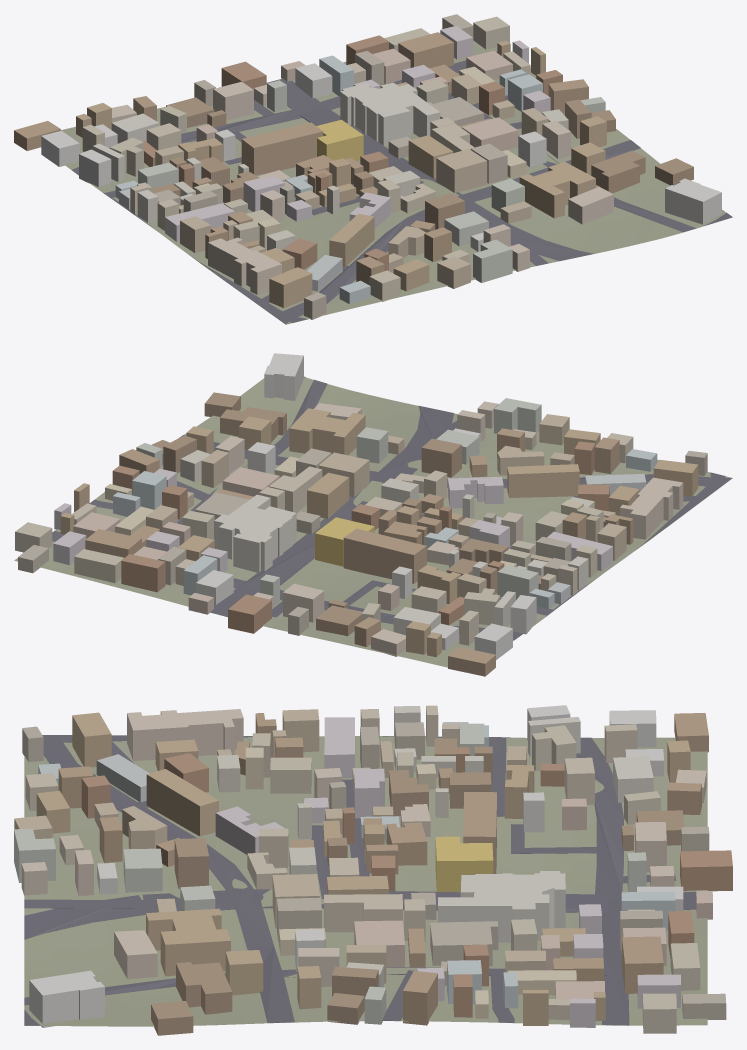
Rendered from chunk_8_5.glb.
The picture shows the model from 3 angles, top to bottom: view 1: azimuth 30°, elevation 25°; view 2: azimuth 150°, elevation 25°; view 3: azimuth 270°, elevation 25°; orthographic projection. The views are drawn at different scales.
Parts seen in each view (by area): view 1: geometry_169, geometry_152, geometry_1, geometry_60, geometry_2, geometry_16, geometry_145, geometry_9, geometry_172, geometry_0, geometry_114, geometry_88 (+77 smaller); view 2: geometry_169, geometry_152, geometry_1, geometry_2, geometry_60, geometry_88, geometry_179, geometry_16, geometry_13, geometry_0, geometry_17, geometry_106 (+78 smaller); view 3: geometry_169, geometry_152, geometry_60, geometry_2, geometry_180, geometry_16, geometry_171, geometry_88, geometry_172, geometry_58, geometry_0, geometry_9 (+119 smaller).
Part boxes in pixels (x1,y1,x2,y2): geometry_169: [40, 38, 730, 324]; geometry_152: [340, 82, 440, 145]; geometry_1: [241, 122, 323, 175]; geometry_60: [208, 237, 281, 294]; geometry_2: [519, 162, 595, 218]; geometry_16: [665, 178, 721, 224]; geometry_145: [436, 149, 487, 192]; geometry_9: [591, 150, 645, 193]; geometry_172: [274, 209, 424, 324]; geometry_0: [316, 119, 363, 161]; geometry_114: [398, 32, 453, 68]; geometry_88: [329, 213, 374, 266]; geometry_169: [14, 377, 731, 672]; geometry_152: [214, 494, 296, 572]; geometry_1: [343, 528, 426, 583]; geometry_2: [289, 408, 365, 455]; geometry_60: [620, 477, 683, 539]; geometry_88: [507, 464, 579, 497]; geometry_179: [242, 477, 389, 588]; geometry_16: [264, 353, 303, 400]; geometry_13: [307, 472, 349, 518]; geometry_0: [315, 517, 374, 566]; geometry_17: [448, 476, 503, 508]; geometry_106: [121, 554, 165, 592]; geometry_169: [24, 736, 707, 1026]; geometry_152: [438, 871, 565, 942]; geometry_60: [127, 709, 243, 760]; geometry_2: [146, 908, 230, 976]; geometry_180: [576, 737, 623, 900]; geometry_16: [29, 970, 104, 1027]; geometry_171: [233, 898, 294, 1022]; geometry_88: [146, 769, 218, 836]; geometry_172: [42, 735, 259, 899]; geometry_58: [324, 894, 402, 932]; geometry_0: [435, 836, 493, 892]; geometry_9: [176, 962, 232, 1014].
Bounding box in the file's own units: 265 × 17.4 × 263.
